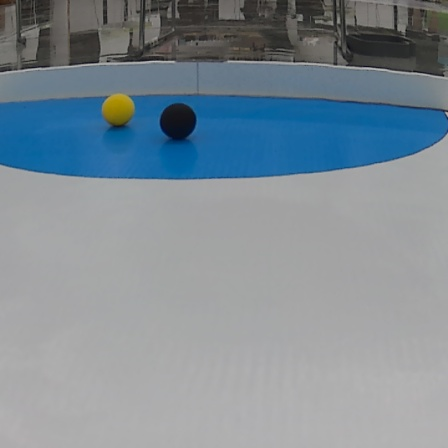black: (163, 104, 201, 141)
blue_base: (0, 91, 435, 184)
yellow: (101, 96, 134, 125)
